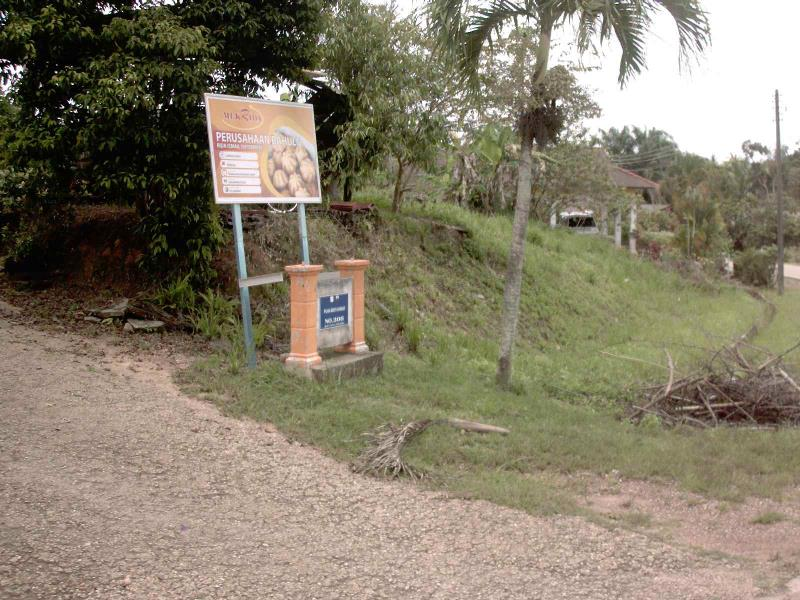ads_sign: (200, 87, 329, 217)
